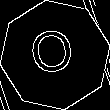O_S: (30, 26, 80, 84)
